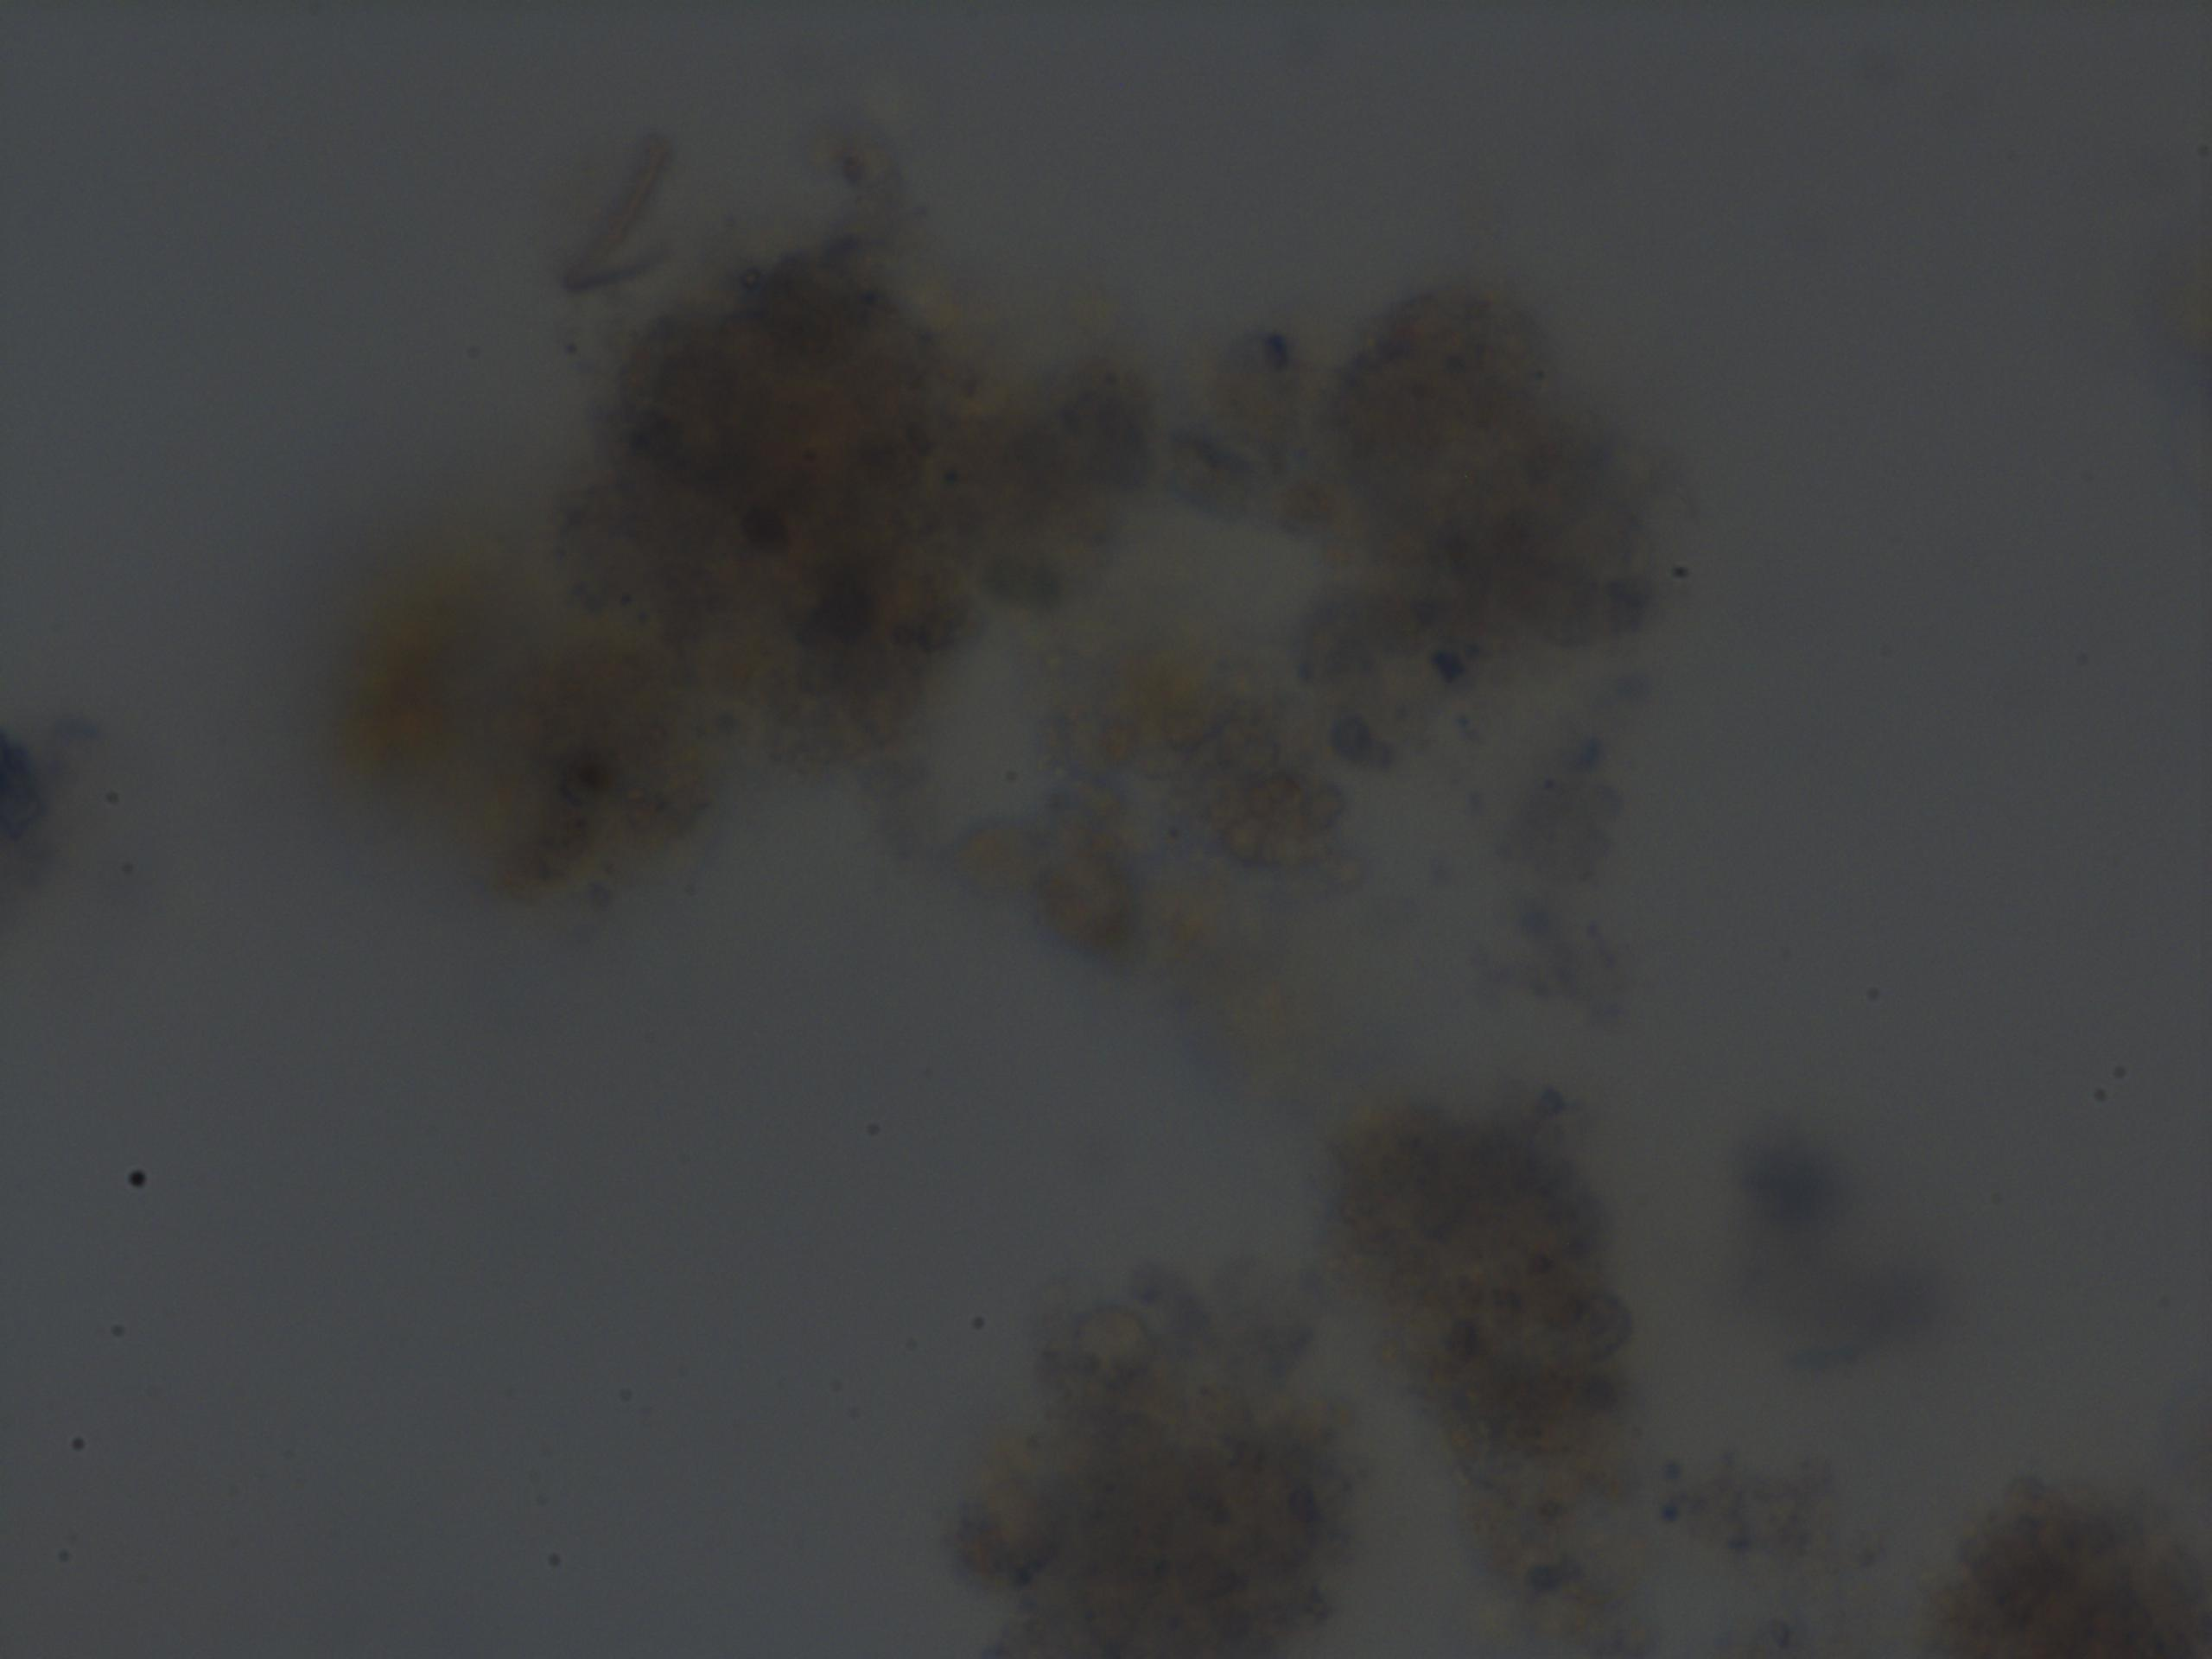open_floc: (589, 141, 1686, 1659)
